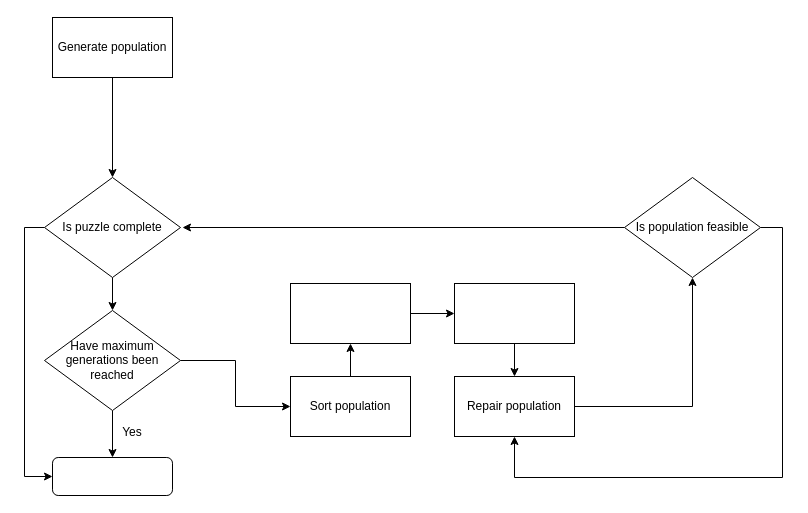
The diagram is 808 pixels wide and 513 high, and some of its shapes have lost their labels. Here are the shapes that lost their labels. From the top down, the centre of each, then its label:
At pixel 350 313: "Select population".
At pixel 514 313: "Mutate population".
At pixel 112 476: "End".
